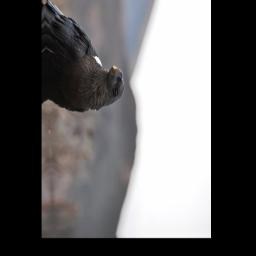Crow: (44, 0, 127, 116)
